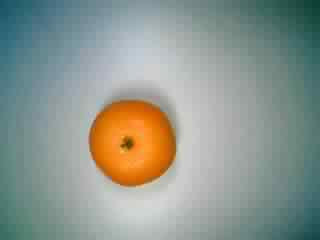orange: (81, 97, 179, 191)
